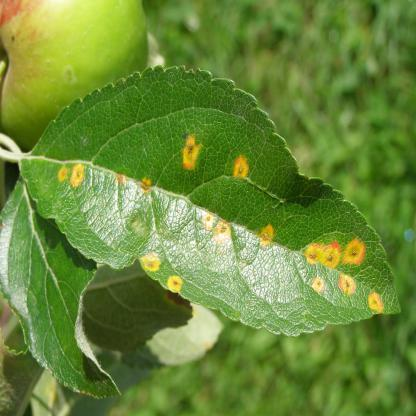Apple rust leaf: (23, 78, 400, 341)
